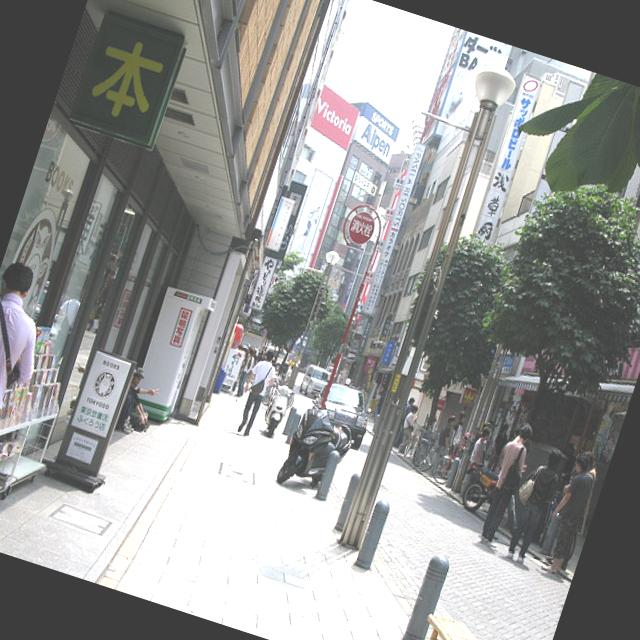Vehicle: (274, 400, 358, 501), (452, 460, 532, 533), (304, 378, 378, 449), (297, 364, 331, 402)
